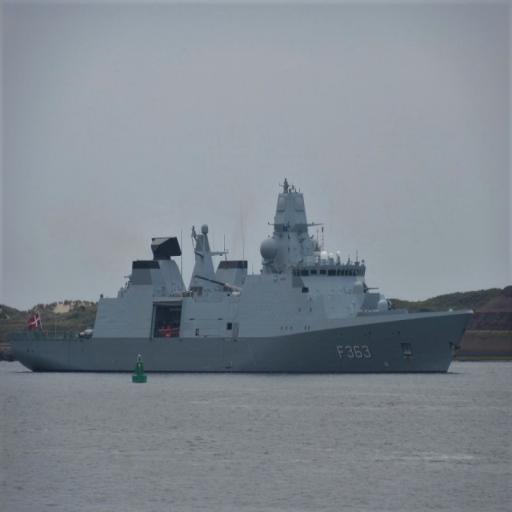Fragata: (12, 174, 478, 378)
